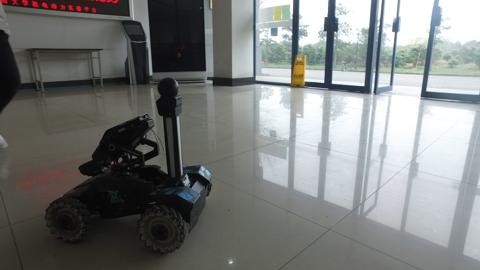chariot: (39, 75, 226, 257)
